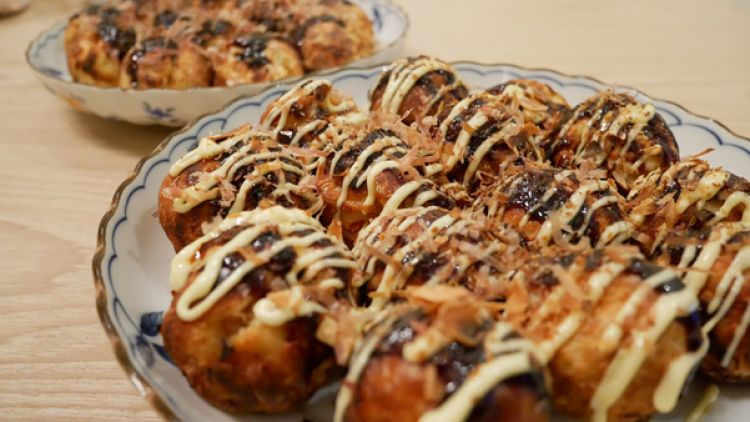takoyaki: (3, 1, 750, 419)
